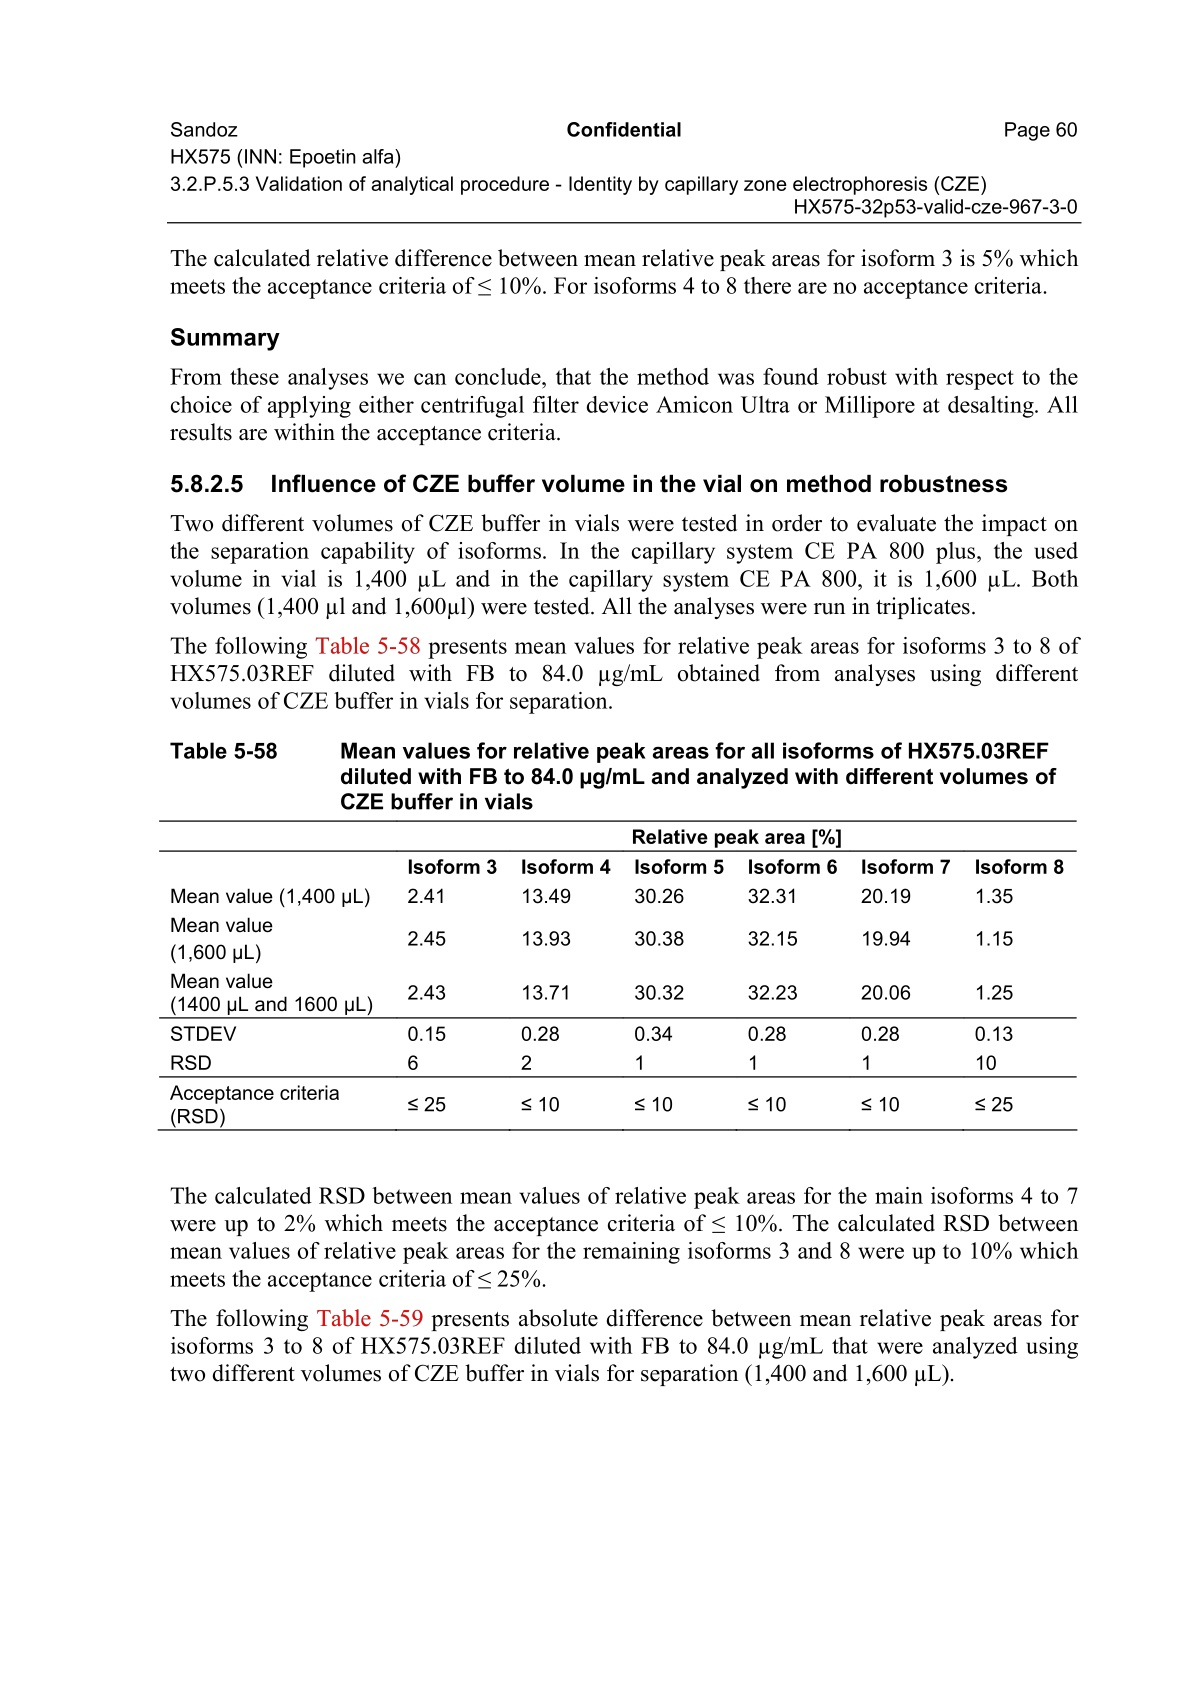partial_lined_merged_cells: (159, 817, 1081, 1133)
